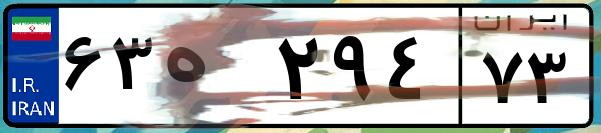2: (270, 28, 330, 110)
3: (525, 38, 570, 115), (110, 28, 158, 98)
4: (385, 28, 445, 110)
6: (57, 26, 110, 100)
7: (475, 38, 525, 113)
9: (330, 28, 385, 110)
ه: (158, 20, 270, 120)
